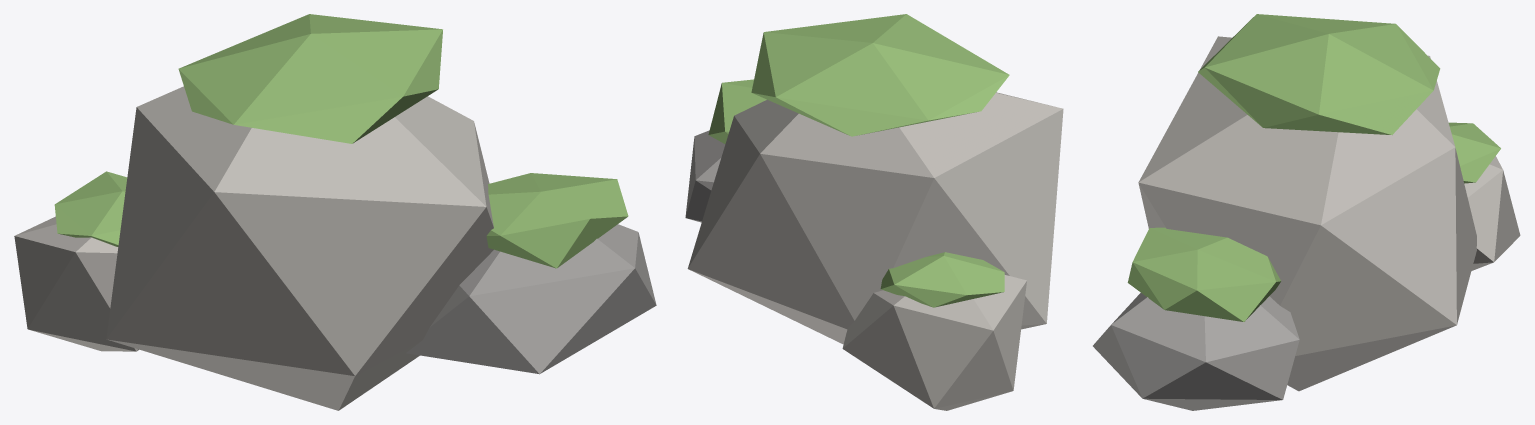
Rendered from rock_b.glb.
3 views of the same model, side by side, from view 1: azimuth 30°, elevation 25°; view 2: azimuth 150°, elevation 25°; view 3: azimuth 270°, elevation 25° (orthographic). The views are drawn at different scales.
Parts seen in each view (by area): view 1: rock_b; view 2: rock_b; view 3: rock_b.
Part boxes in pixels (x1=…): rock_b: x1=14, y1=14, x2=656, y2=410; rock_b: x1=685, y1=14, x2=1063, y2=410; rock_b: x1=1093, y1=14, x2=1520, y2=410.
Bounding box in the file's own units: 1.98 × 1.44 × 1.59.
